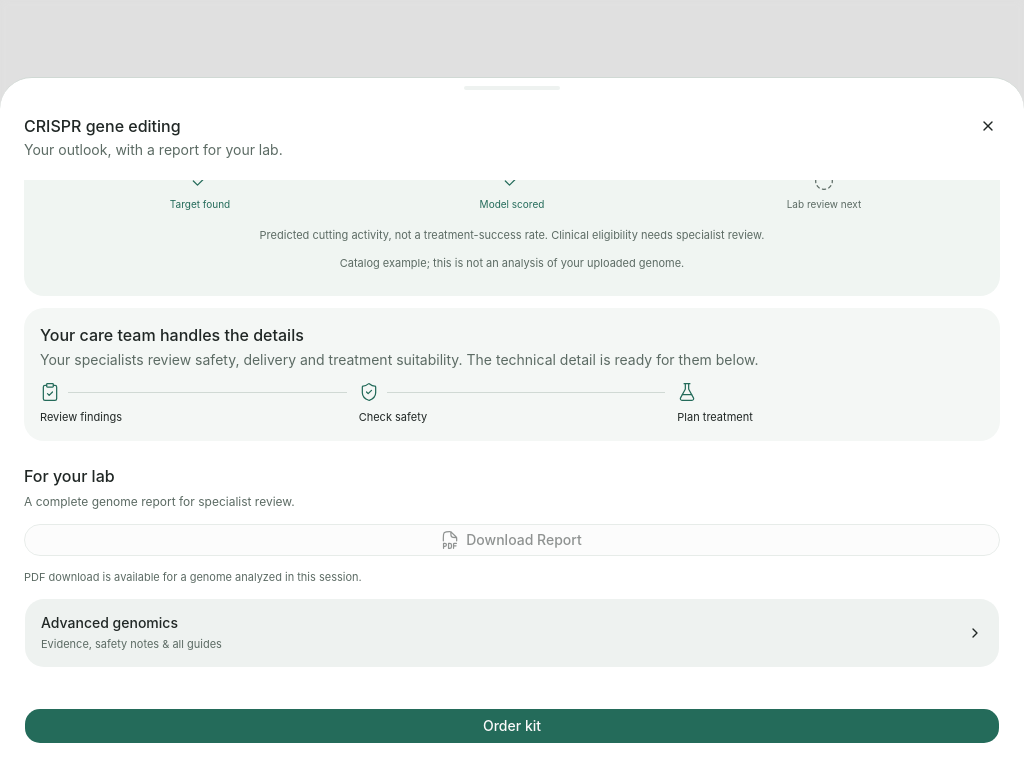
Test case: keeps all molecular evidence in a nested lab drawer
(page scrolled)
Click the button "Advanced genomics" at (109, 622), box [24,598,1000,667]
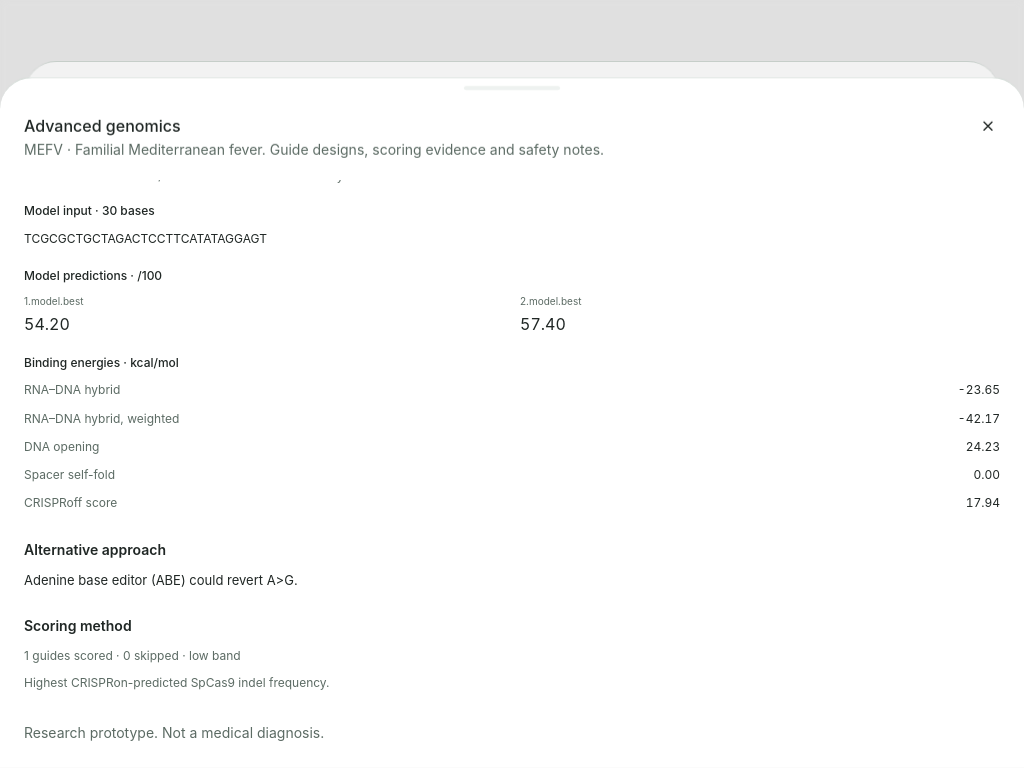
Expected: the text "54.20" is shown, [24,314,70,334]
Expected: the text "Research prototype. Not a medical diagnosis." is shown, [24,724,324,741]
